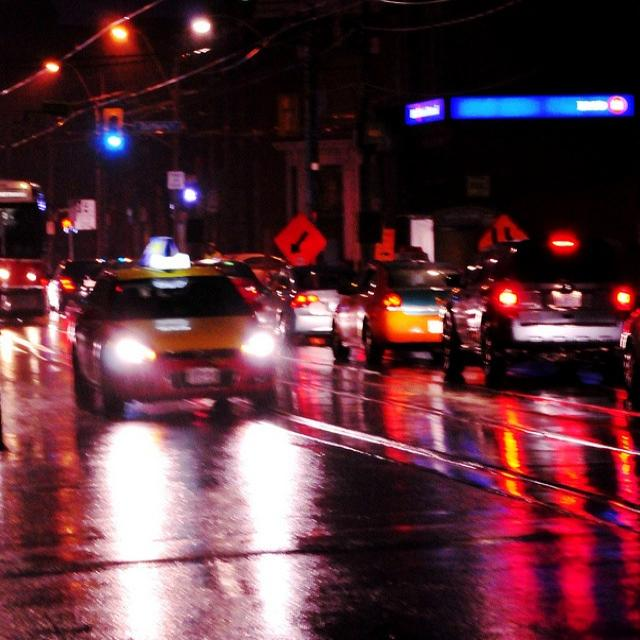Car: (291, 216, 637, 424), (34, 170, 284, 450)
